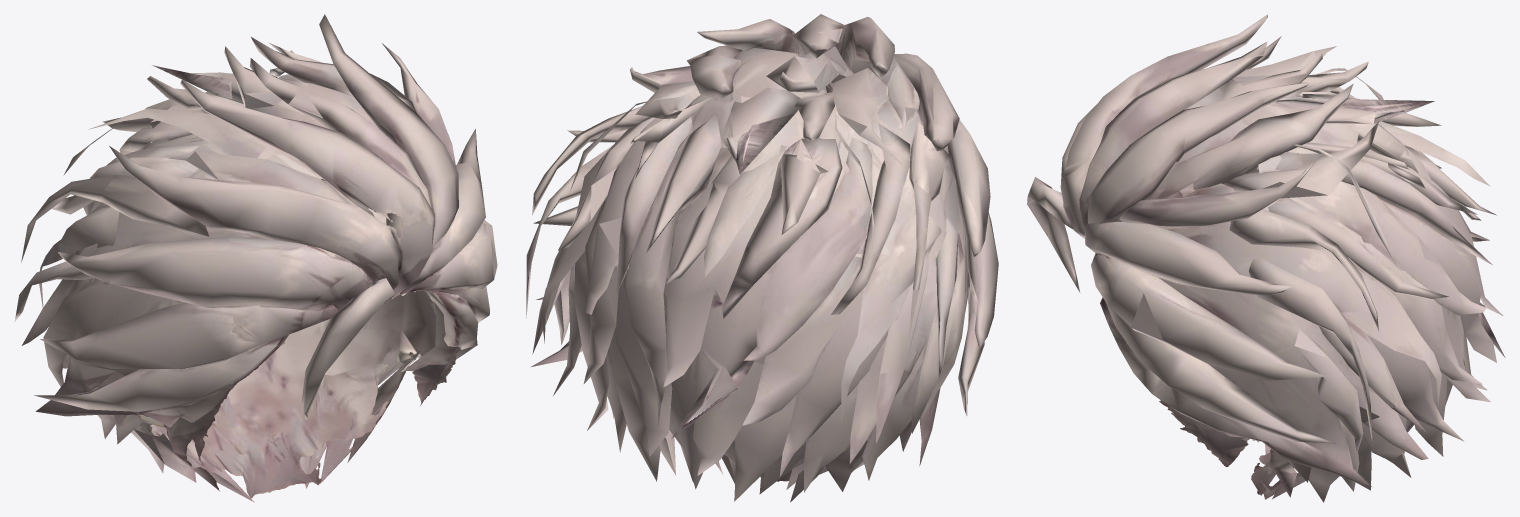
The model's file is spiky.glb.
3 views of the same model, side by side, from view 1: azimuth 30°, elevation 25°; view 2: azimuth 150°, elevation 25°; view 3: azimuth 270°, elevation 25° (orthographic). The views are drawn at different scales.
Visible parts, largest first — view 1: Mesh_0; view 2: Mesh_0; view 3: Mesh_0.
Boxes of the visible parts, x1=… form: Mesh_0: x1=14, y1=14, x2=497, y2=502; Mesh_0: x1=526, y1=14, x2=998, y2=502; Mesh_0: x1=1027, y1=14, x2=1505, y2=502.
Bounding box in the file's own units: 1.6 × 1.55 × 1.54.
1 material, 1 textured.
